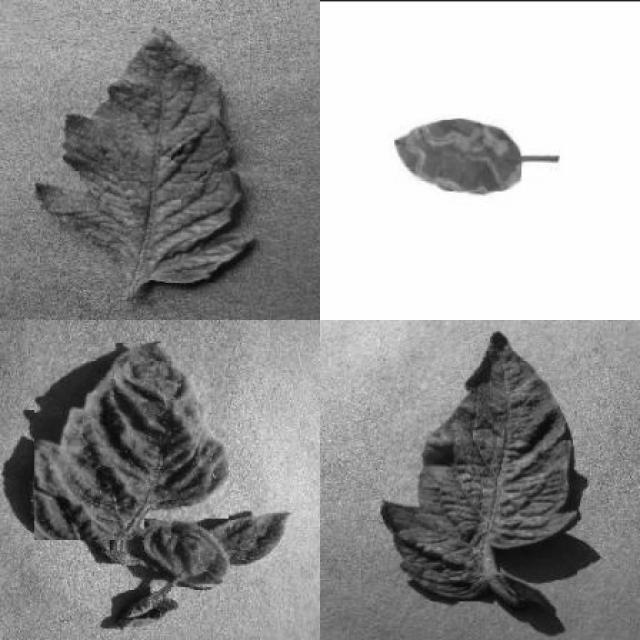Leaf Miner: (394, 118, 522, 192)
Mosaic Virus: (37, 23, 253, 283)
Spider Mites: (382, 328, 578, 602)
Yellow Leaf Curl Virus: (35, 342, 229, 540), (145, 519, 231, 587)
